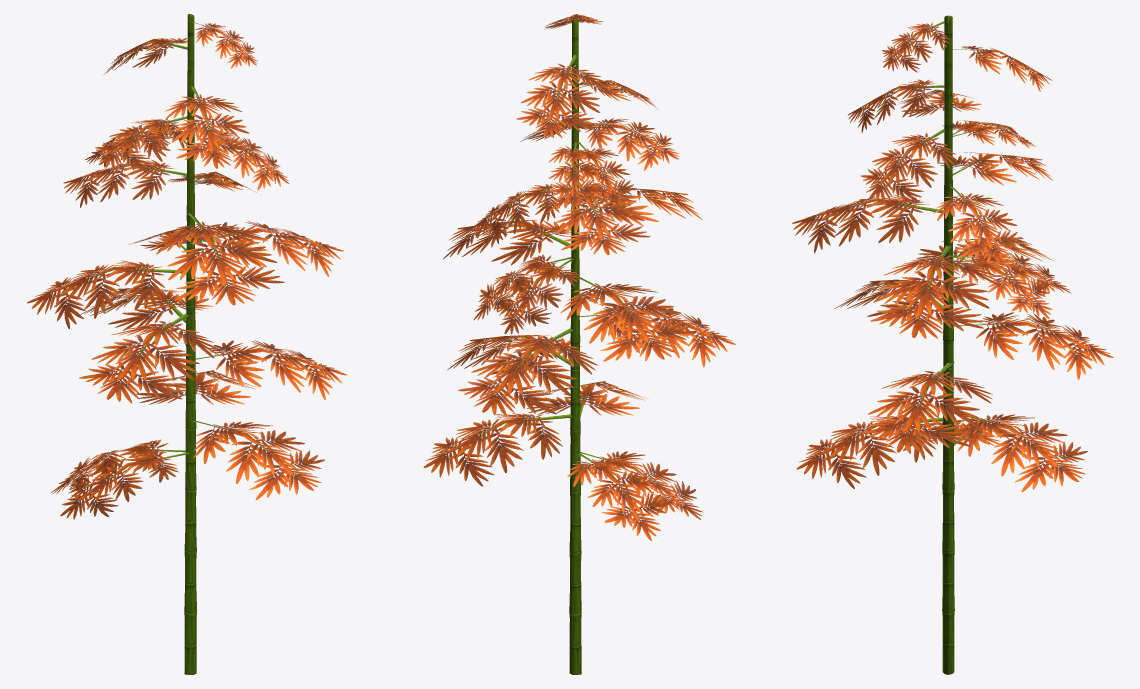
The model's file is BambooA.fbx.
3 views of the same model, side by side, from view 1: azimuth 30°, elevation 25°; view 2: azimuth 150°, elevation 25°; view 3: azimuth 270°, elevation 25° (orthographic).
Visible parts, largest first — view 1: pPlane12, pPlane3, pPlane17; view 2: pPlane12, pPlane3; view 3: pPlane12, pPlane3, pPlane17.
Part boxes in pixels (x1,y1,x2,y2): pPlane12: (27,20,346,519); pPlane3: (184,14,196,674); pPlane17: (194,130,289,190); pPlane12: (423,14,735,540); pPlane3: (569,19,581,674); pPlane12: (792,19,1113,492); pPlane3: (942,15,954,674); pPlane17: (861,129,957,202).
Size of the model in its own units: 2.1 by 4.24 by 2.08.
2 materials, 2 textured.
